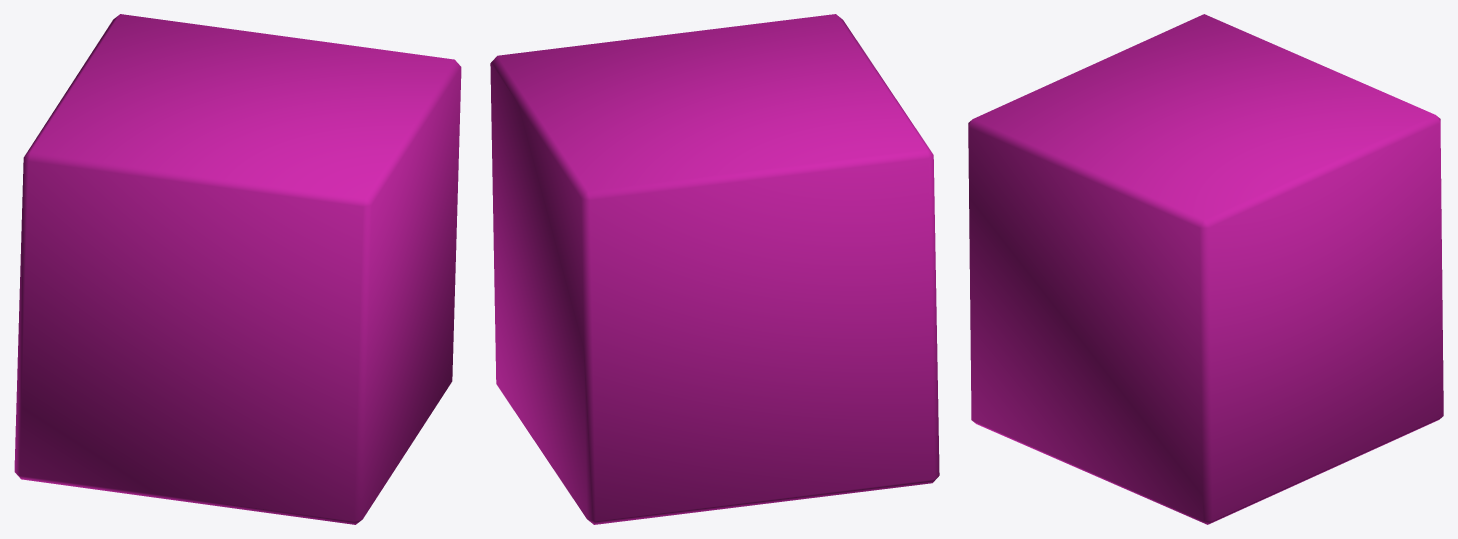
File: jumping_cube_8.obj
3 views of the same model, side by side, from view 1: azimuth 30°, elevation 25°; view 2: azimuth 150°, elevation 25°; view 3: azimuth 270°, elevation 25° (orthographic). The views are drawn at different scales.
Visible parts, largest first — view 1: Cube; view 2: Cube; view 3: Cube.
Part boxes in pixels (x1=…): Cube: x1=14, y1=14, x2=461, y2=524; Cube: x1=490, y1=14, x2=939, y2=524; Cube: x1=968, y1=14, x2=1443, y2=524.
Size of what is drawn, in the model's own units: 2.82 by 2.07 by 2.79.
